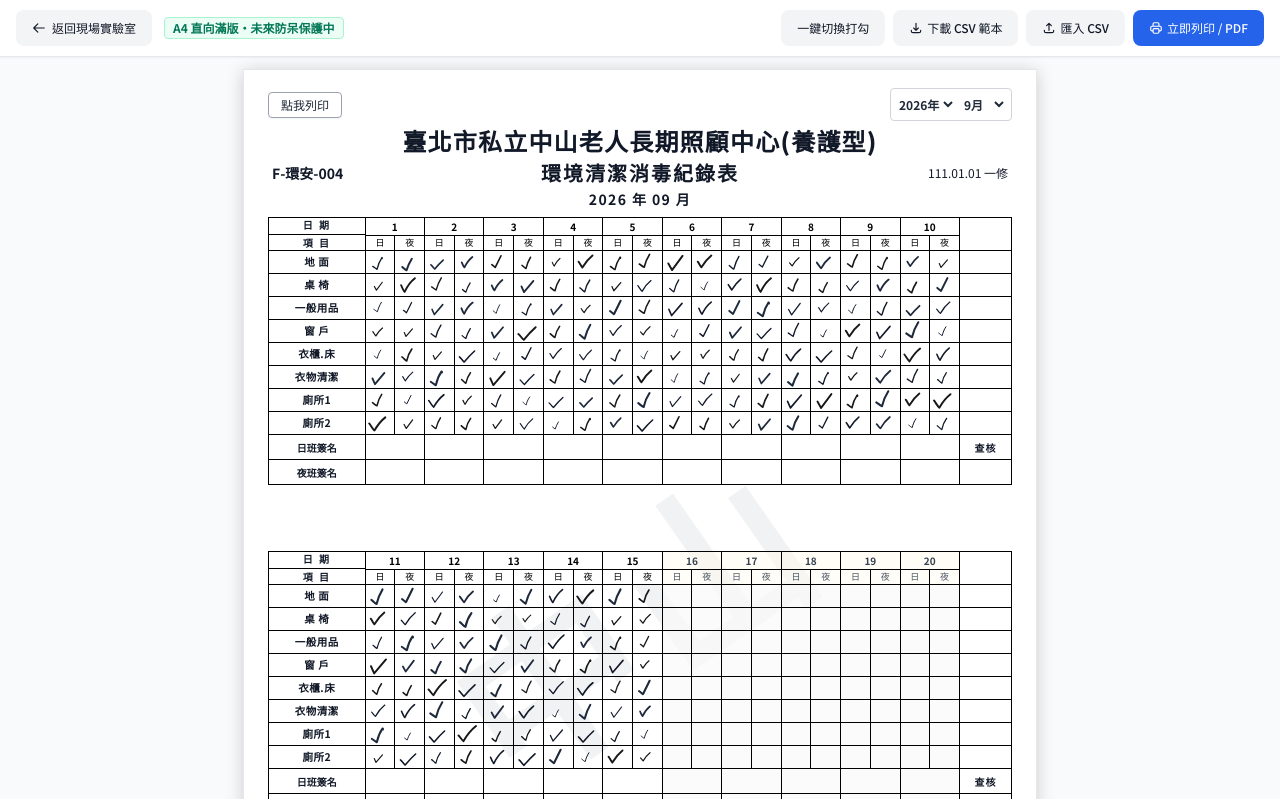
Test: SanitationReportPrintView 元件渲染與互動 (F-環安-004 滿版與未來防呆) › 點擊「一鍵切換打勾」僅切換過去與今天日期，未來的時間永遠不會被勾
Click the button with test id "btn-toggle-all-checks" at x=833, y=28, box [781,10,885,46]
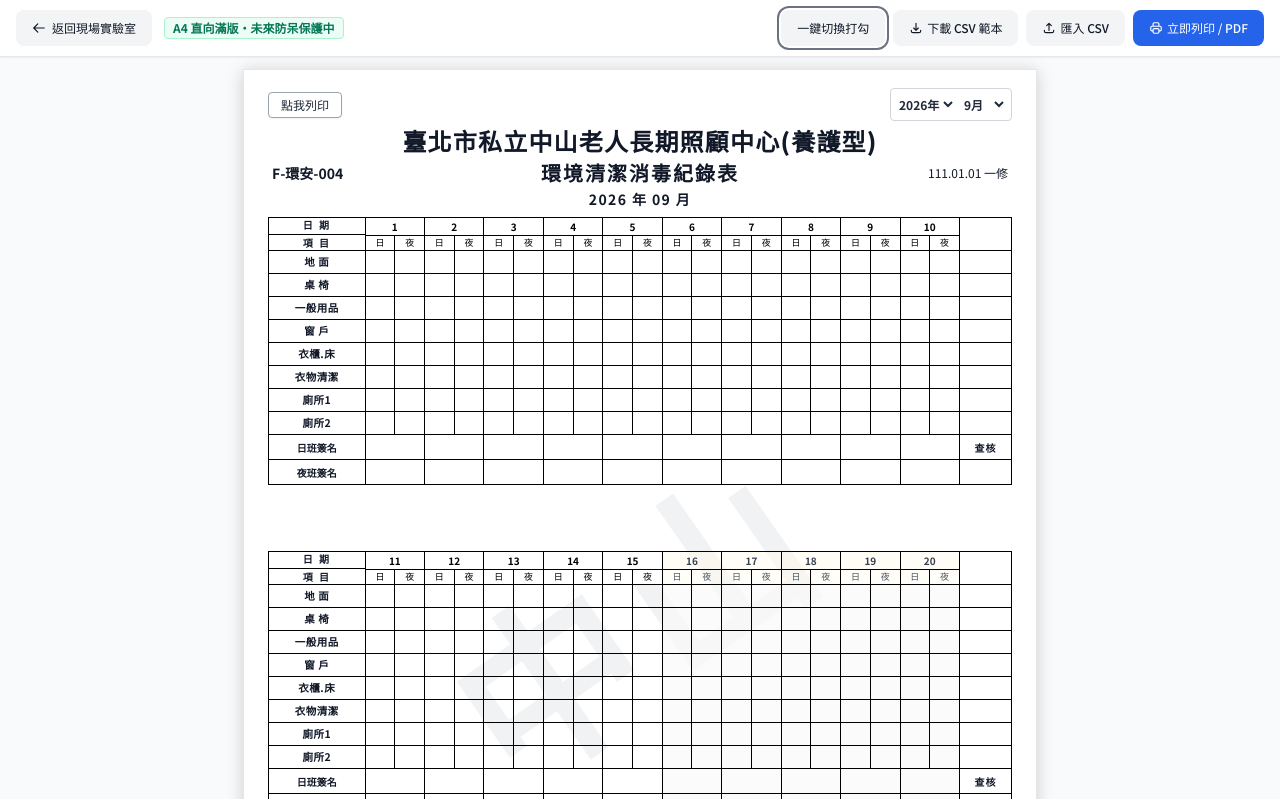
Expected: the picture "手寫勾選" is gone
Click the button with test id "btn-toggle-all-checks" at x=833, y=28, box [781,10,885,46]
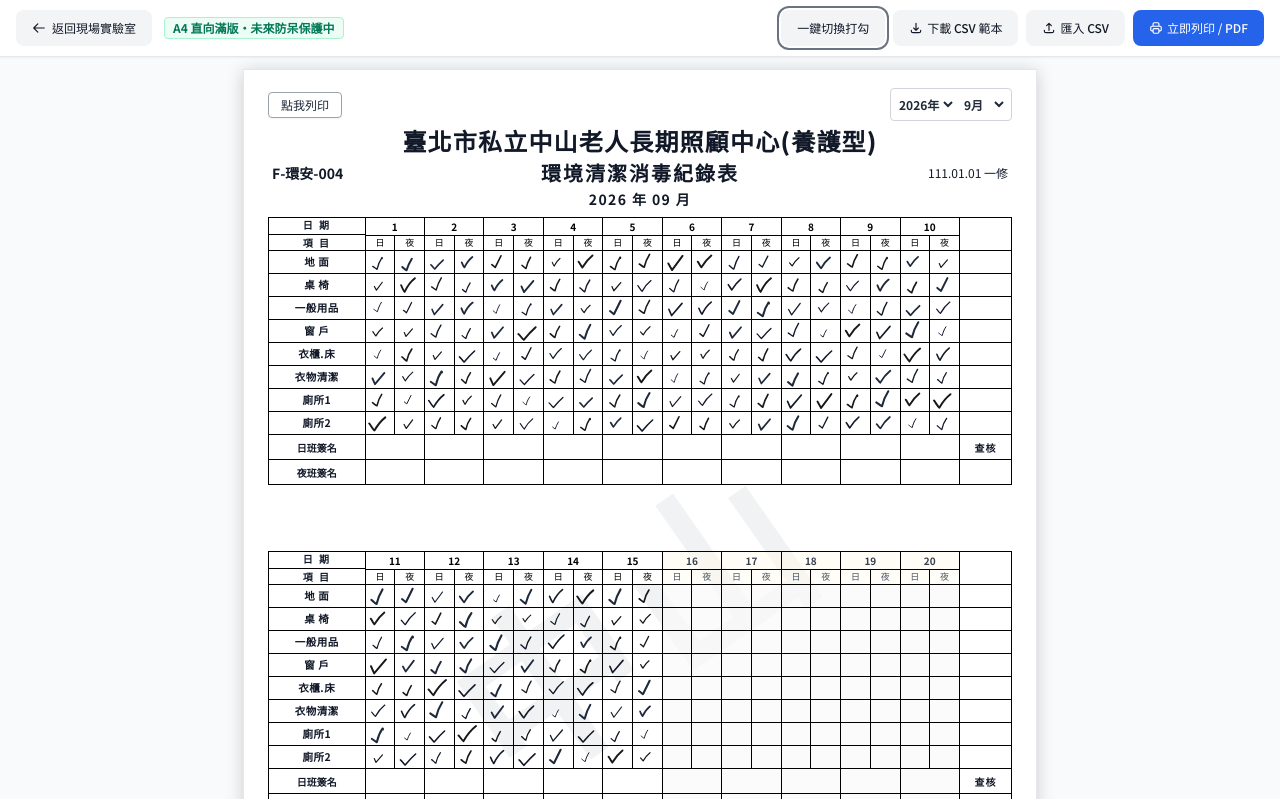
Expected: the 1st picture named "手寫勾選" is shown, [368,254,388,274]
